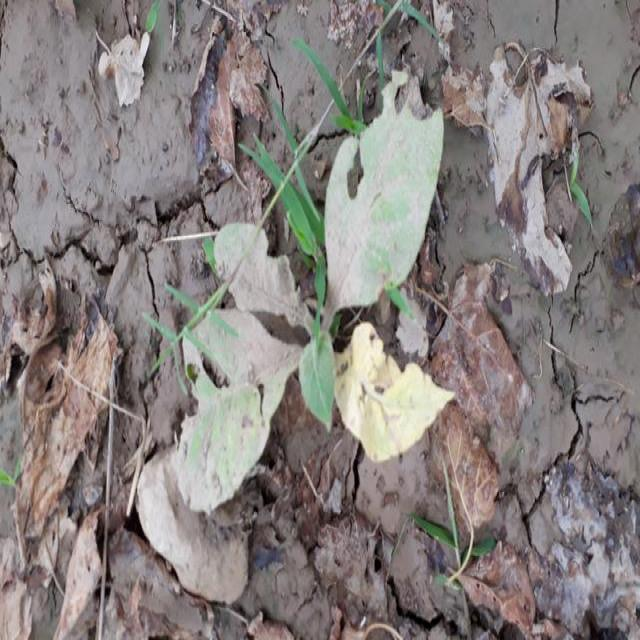crop: (149, 92, 467, 496)
